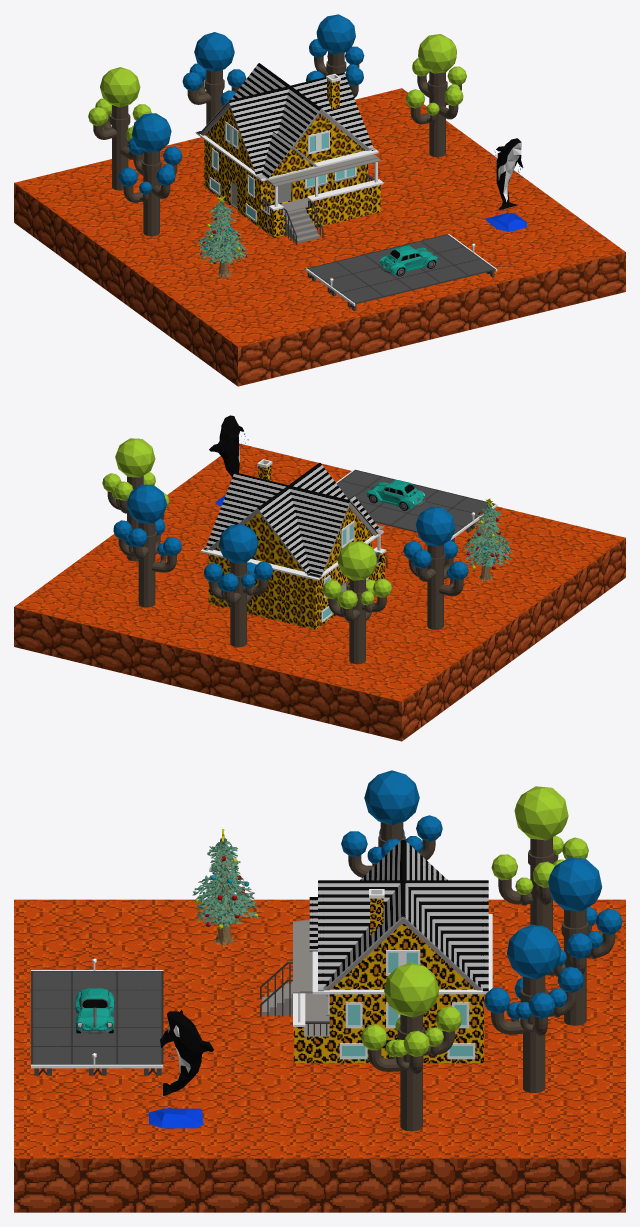
3 views of the same model, one above another, from view 1: azimuth 30°, elevation 25°; view 2: azimuth 150°, elevation 25°; view 3: azimuth 270°, elevation 25° (orthographic). The views are drawn at different scales.
Visible parts, largest first — view 1: Cube.001, Cube.637, OBJRANDOM_CHRISTMAS_TREE, ANIMAL_ORCA, VEHICLES_VOLKSWAGEN; view 2: Cube.001, Cube.637, OBJRANDOM_CHRISTMAS_TREE, VEHICLES_VOLKSWAGEN, ANIMAL_ORCA; view 3: Cube.001, Cube.637, OBJRANDOM_CHRISTMAS_TREE, ANIMAL_ORCA, VEHICLES_VOLKSWAGEN.
Part boxes in pixels (left/top/right/bottom): Cube.001: left=14, top=14, right=625, bottom=386; Cube.637: left=195, top=63, right=383, bottom=244; OBJRANDOM_CHRISTMAS_TREE: left=196, top=195, right=248, bottom=277; ANIMAL_ORCA: left=485, top=138, right=527, bottom=231; VEHICLES_VOLKSWAGEN: left=378, top=245, right=438, bottom=276; Cube.001: left=14, top=438, right=625, bottom=741; Cube.637: left=200, top=459, right=387, bottom=629; OBJRANDOM_CHRISTMAS_TREE: left=462, top=498, right=512, bottom=581; VEHICLES_VOLKSWAGEN: left=366, top=479, right=425, bottom=510; ANIMAL_ORCA: left=209, top=415, right=248, bottom=505; Cube.001: left=14, top=770, right=625, bottom=1212; Cube.637: left=260, top=839, right=492, bottom=1063; OBJRANDOM_CHRISTMAS_TREE: left=192, top=829, right=259, bottom=946; ANIMAL_ORCA: left=148, top=1010, right=213, bottom=1128; VEHICLES_VOLKSWAGEN: left=75, top=988, right=114, bottom=1033.
Bounding box in the file's own units: 4000 × 1667 × 4000.
Materials: 32 (5 with a texture image).
